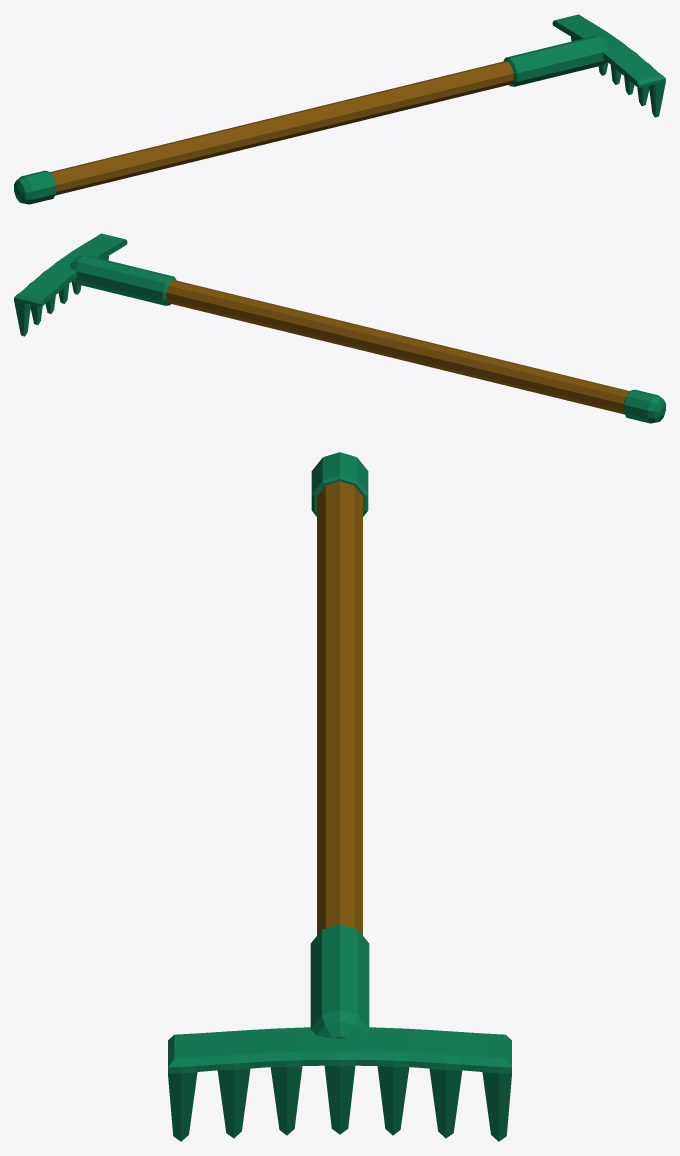
The model's file is Rastrillo.fbx.
3 views of the same model, one above another, from view 1: azimuth 30°, elevation 25°; view 2: azimuth 150°, elevation 25°; view 3: azimuth 270°, elevation 25° (orthographic). The views are drawn at different scales.
Visible parts, largest first — view 1: RastrilloOrig; view 2: RastrilloOrig; view 3: RastrilloOrig.
Boxes of the visible parts, x1,y1,x2,y2 form: RastrilloOrig: [14, 14, 665, 204]; RastrilloOrig: [14, 233, 665, 423]; RastrilloOrig: [168, 452, 511, 1141].
Size of the model in its own units: 75.93 by 6.69 by 18.67.
